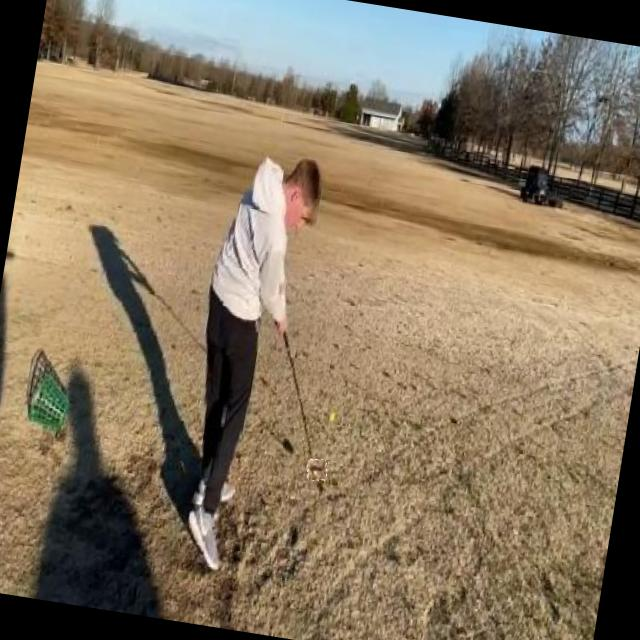club head: (306, 458, 329, 482)
